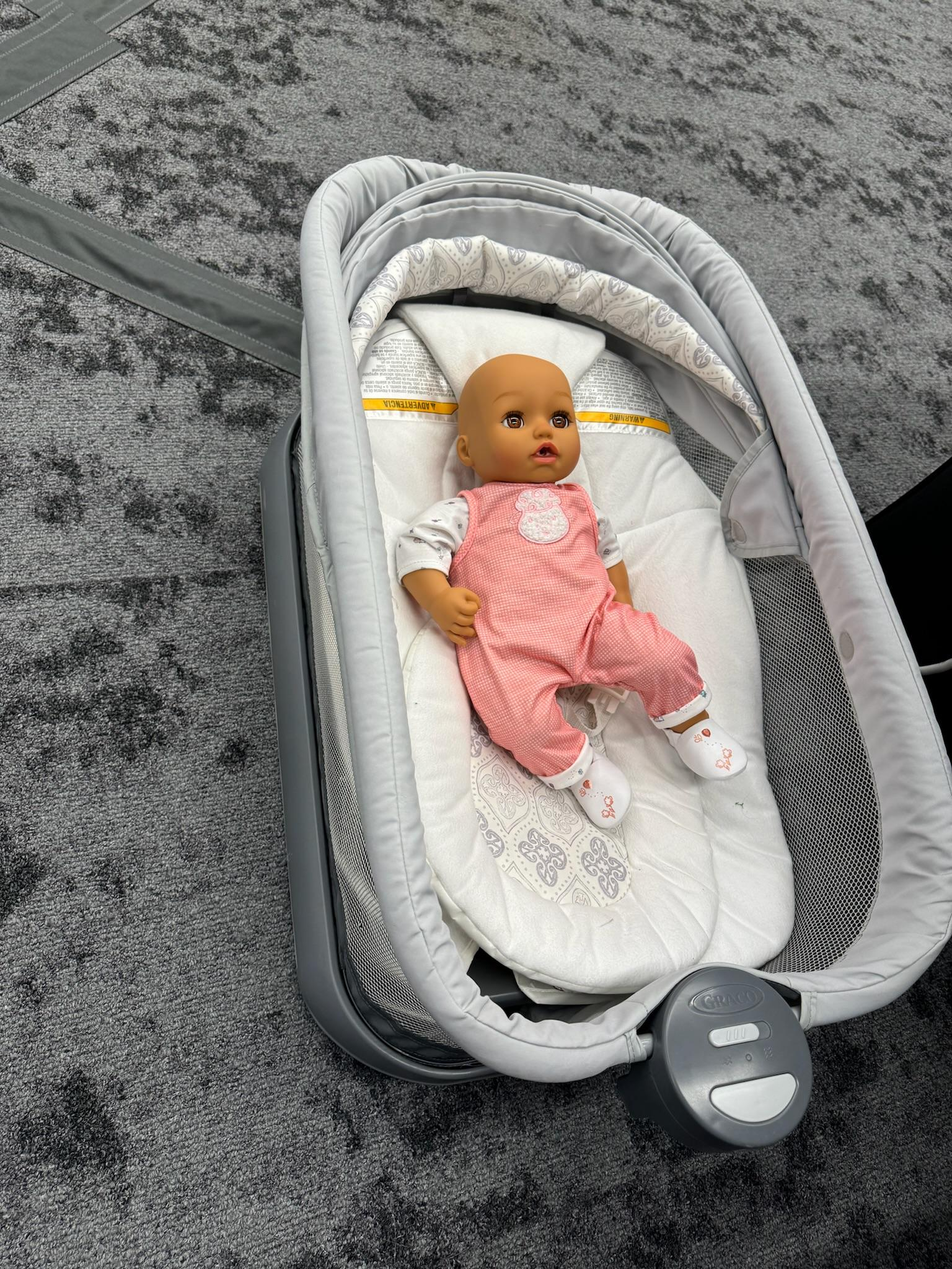baby: (393, 351, 741, 825)
